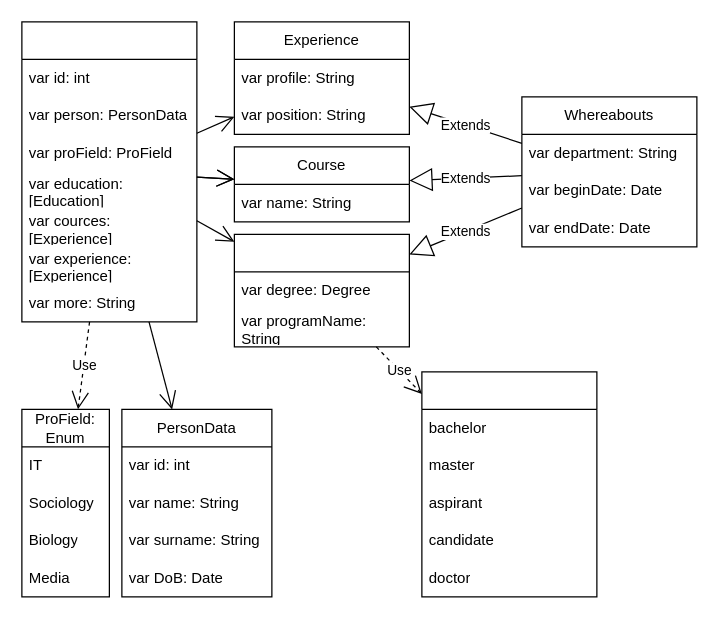
This 719x619 diagram has some shape labels left out. The box of each missing label's shape, as (x1, y1, x2, y2) in pixels:
CV: (21, 21, 197, 322)
Degree: Enum: (421, 371, 597, 597)
Education: (233, 233, 409, 347)
